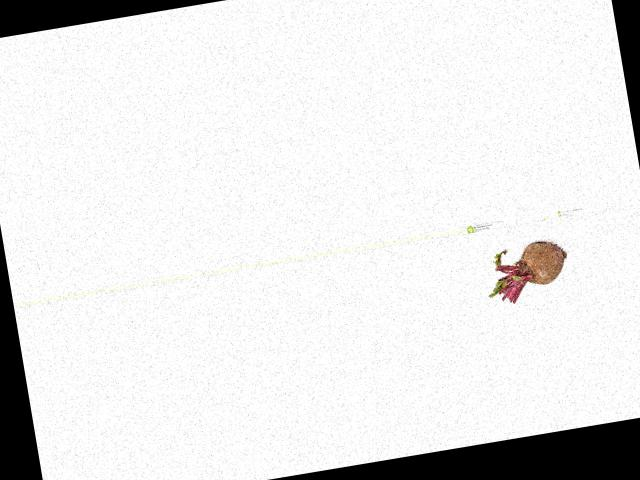beet: (482, 238, 573, 306)
